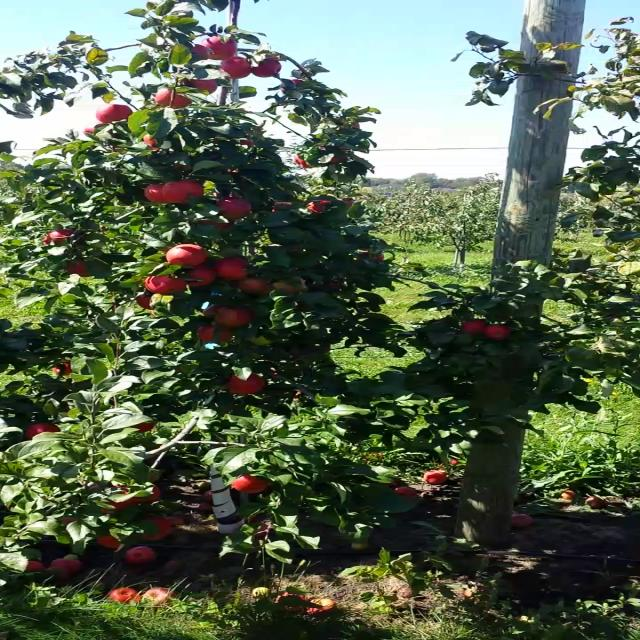apple: (110, 478, 172, 502), (165, 243, 211, 270), (226, 370, 269, 398), (138, 271, 184, 297), (163, 178, 205, 206), (211, 254, 256, 280), (212, 305, 255, 330), (228, 472, 272, 496), (194, 324, 244, 344), (93, 102, 137, 124), (153, 88, 195, 110), (200, 36, 238, 60), (215, 195, 252, 219), (97, 495, 139, 516), (19, 422, 62, 442), (233, 277, 274, 297), (218, 56, 252, 80), (40, 230, 84, 248), (61, 258, 97, 280), (140, 180, 170, 206), (140, 518, 172, 542), (250, 56, 284, 78), (282, 386, 322, 404), (189, 217, 233, 233), (183, 268, 213, 290), (138, 133, 170, 153), (353, 249, 391, 265), (314, 278, 346, 296), (273, 279, 307, 295), (335, 120, 365, 138), (306, 199, 334, 217), (134, 294, 162, 312), (461, 318, 489, 336), (484, 324, 512, 342), (183, 79, 220, 92), (278, 79, 308, 95), (94, 534, 123, 550), (292, 155, 321, 170), (326, 150, 350, 167), (269, 200, 298, 214), (198, 303, 223, 319), (52, 358, 72, 378), (189, 44, 211, 60), (128, 422, 158, 432), (82, 126, 95, 136), (62, 518, 78, 525)
